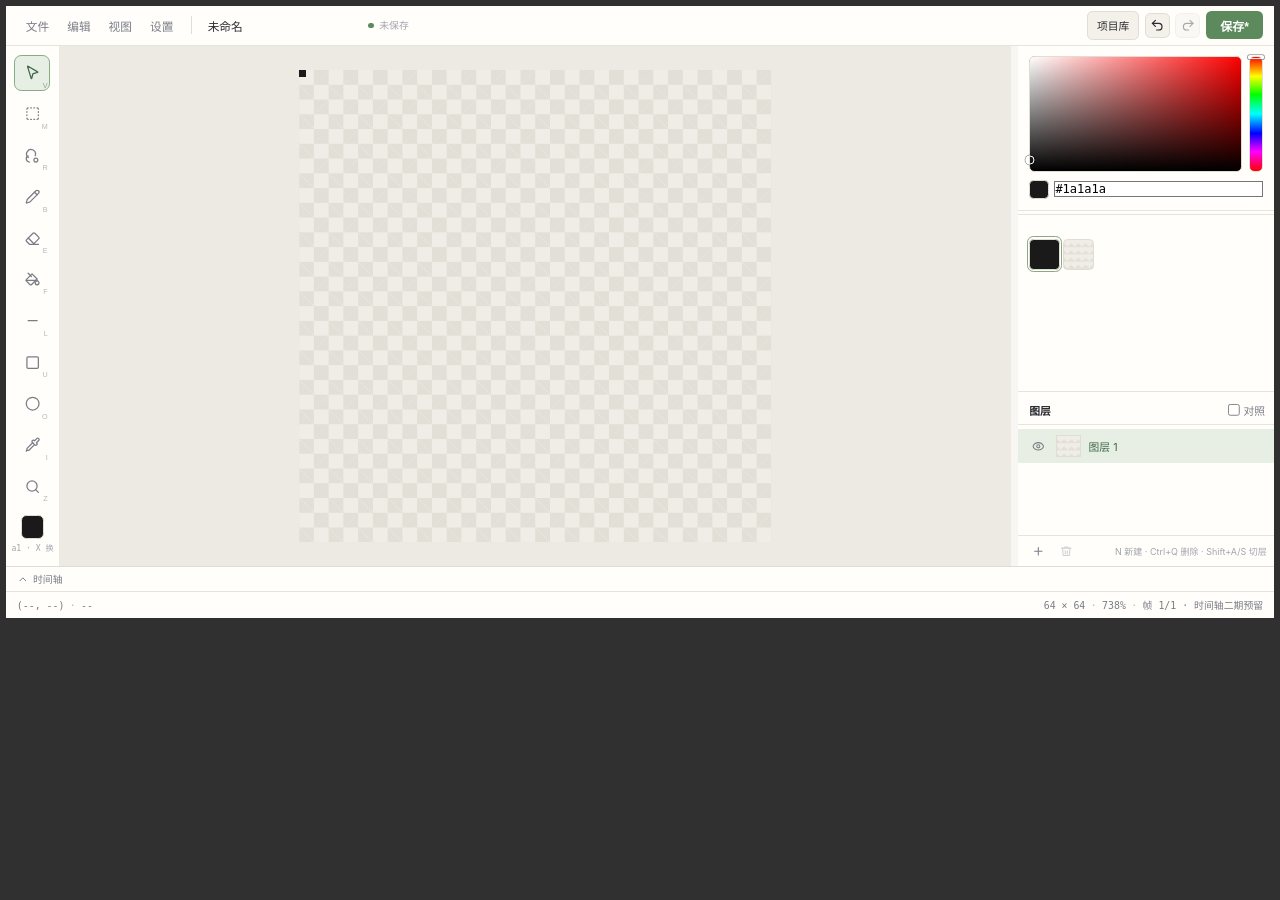
Test: PixelStudioPage › 详情窗主动清空颜色名后，调色板该色 name 字段被真正清除
Click the 1st button with class "pixel-swatch": point(1044, 254) [1029,239,1060,270]
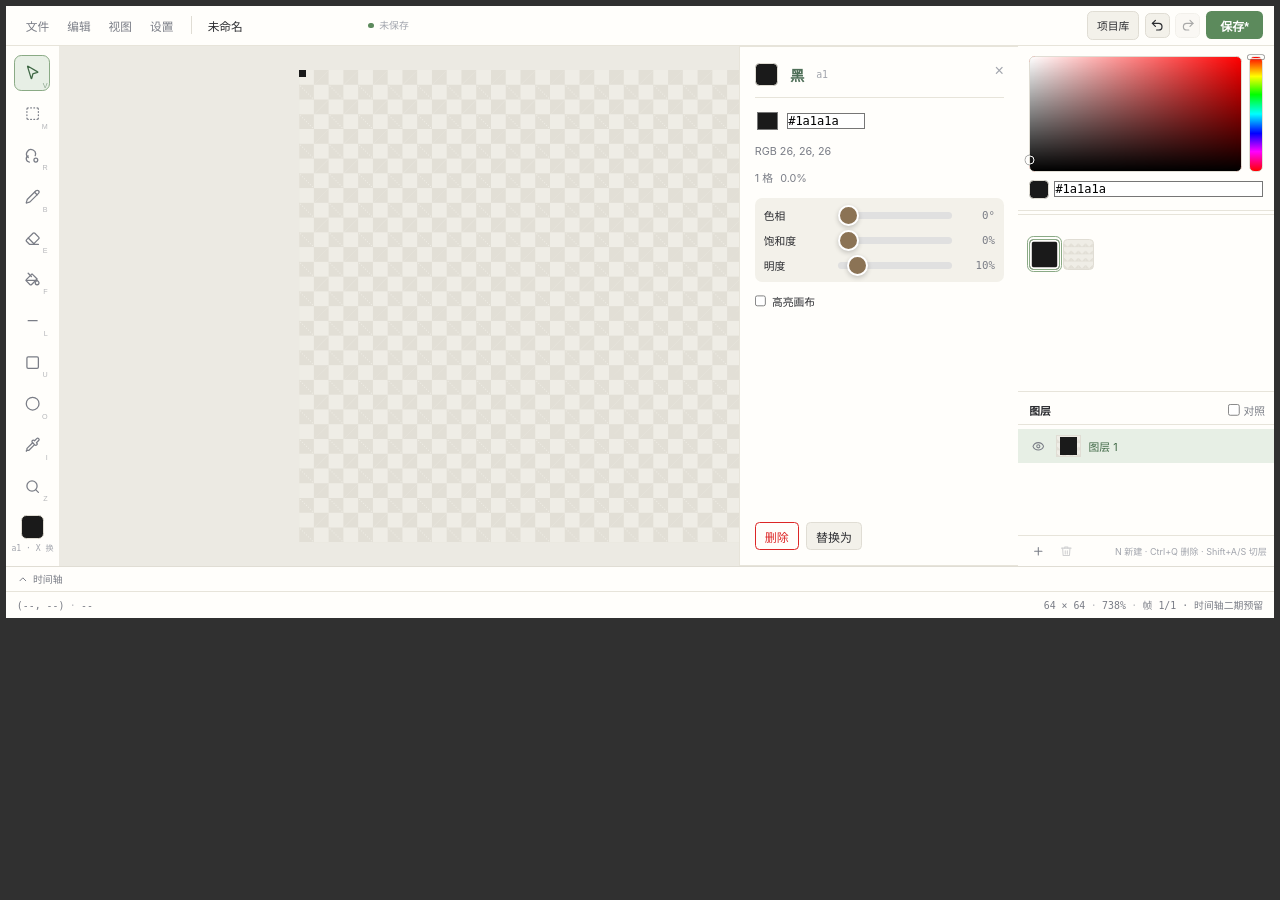
Click the button "黑": point(797, 74) [785,61,809,88]
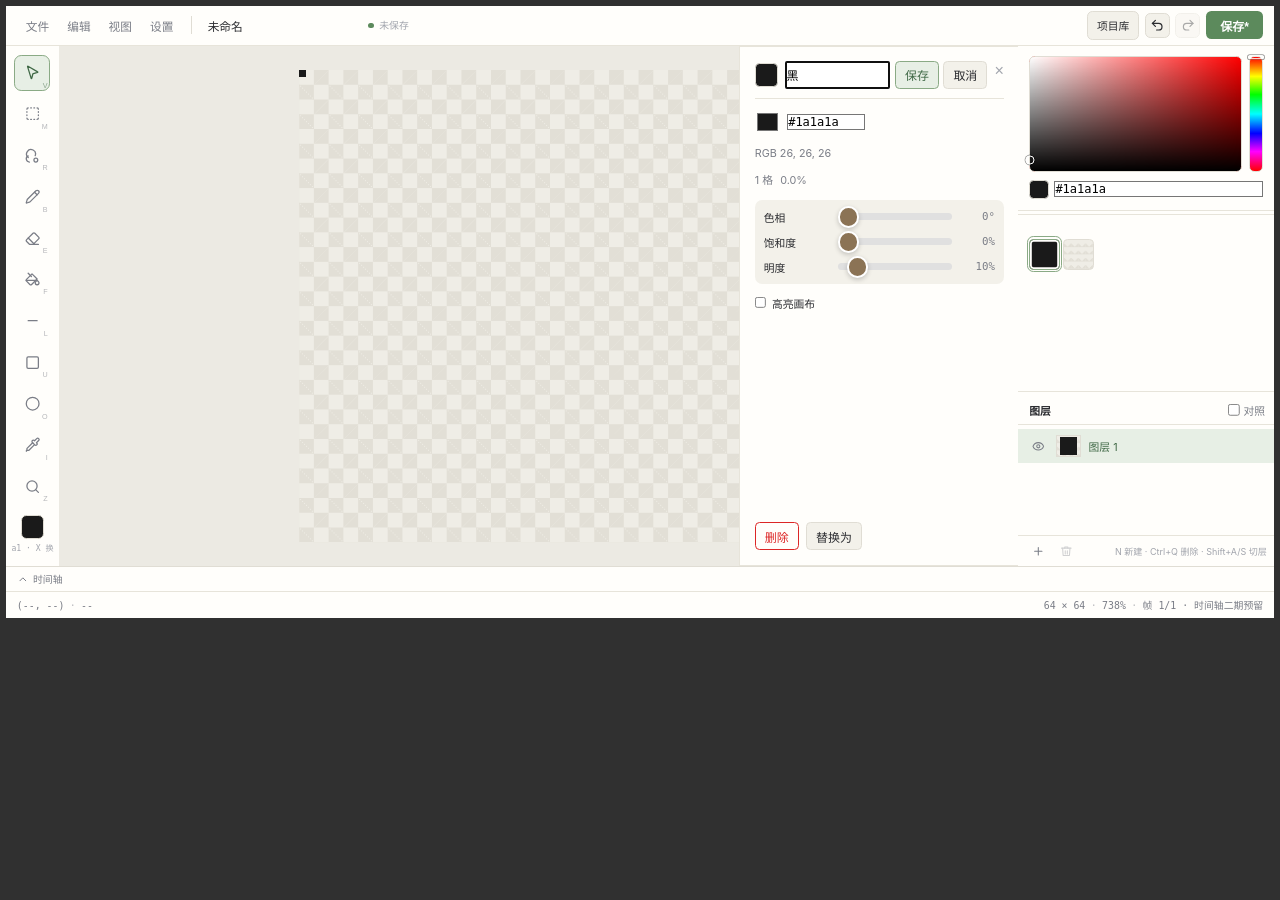
Now the 2nd field holds "黑"
Clear the 2nd field: point(838, 75) [785,61,890,89]
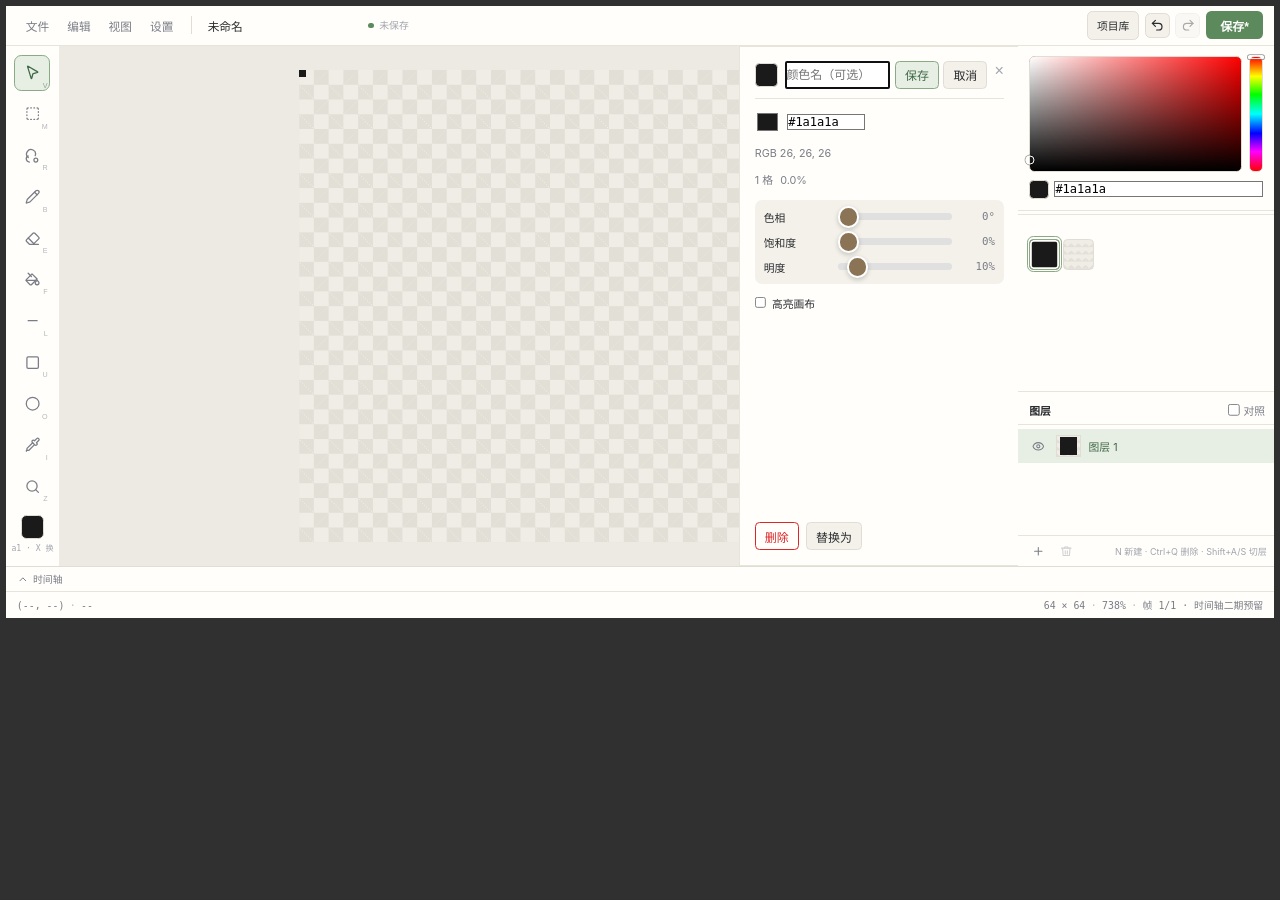
Click the button "保存": point(917, 75) [895,61,939,89]
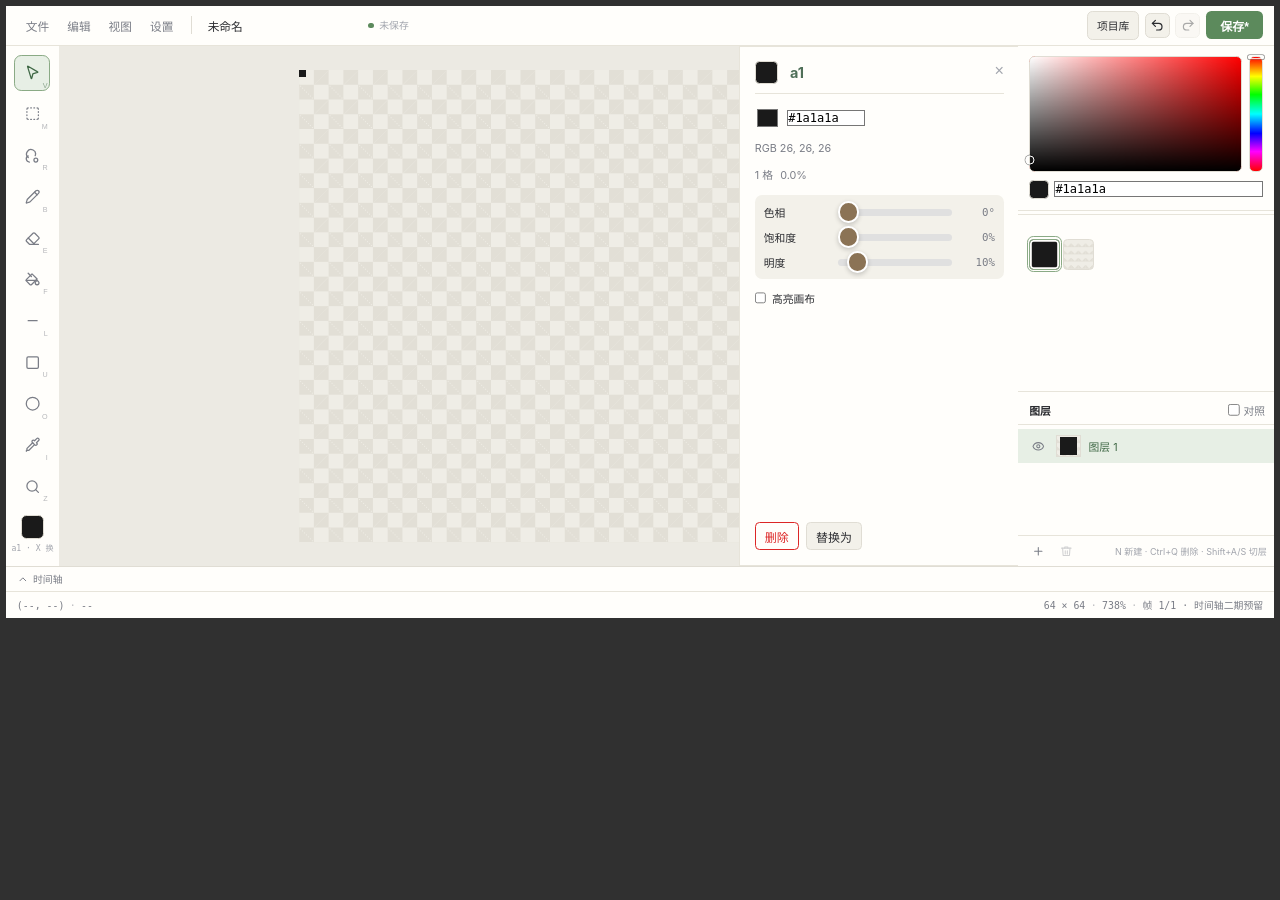
Now the button "a1" is shown, box [785,61,809,84]
